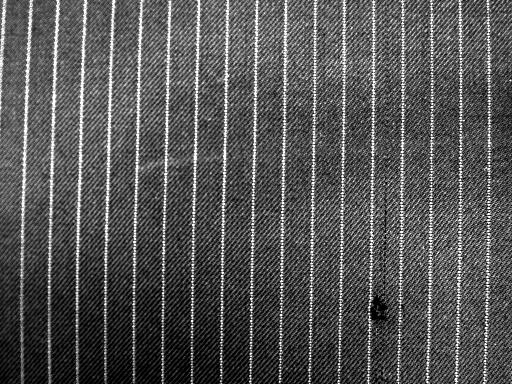fabric_hole: (356, 290, 394, 324)
